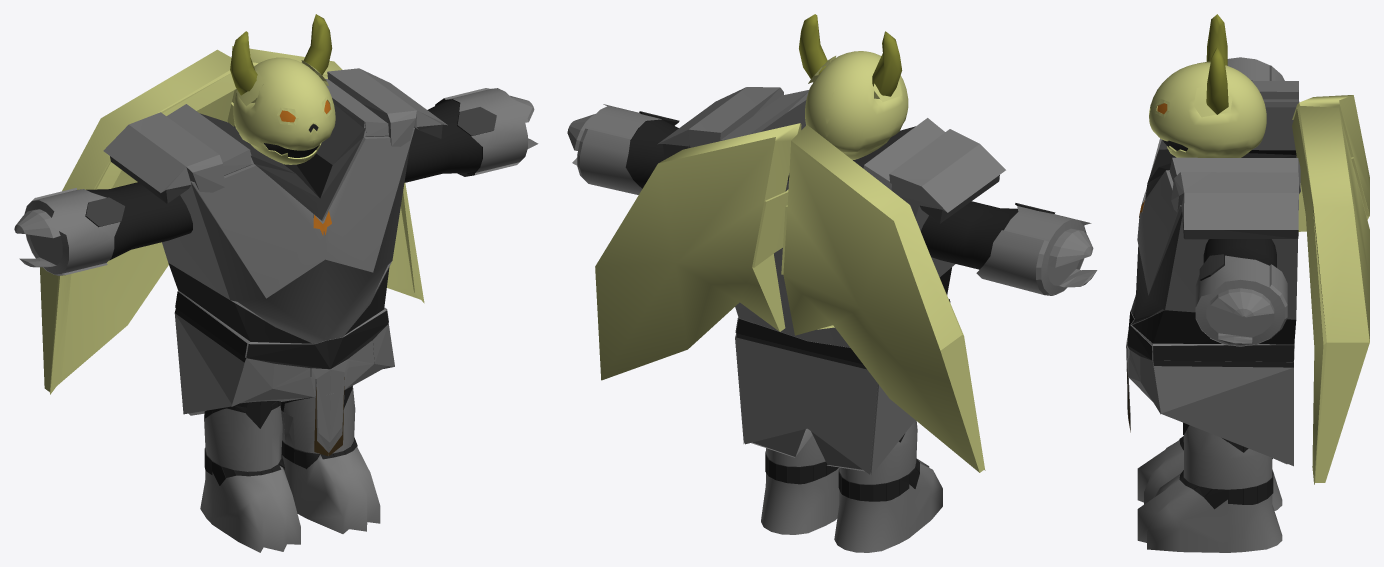
File: palidomarmol.fbx
3 views of the same model, side by side, from view 1: azimuth 30°, elevation 25°; view 2: azimuth 150°, elevation 25°; view 3: azimuth 270°, elevation 25° (orthographic).
Parts seen in each view (by area): view 1: Box001, ala002, brazo1, brazo002, cabeza, ala1, cuerno2, cuerno1; view 2: Box001, ala002, ala1, brazo1, cabeza, brazo002, cuerno2, cuerno1; view 3: Box001, ala1, brazo002, cabeza, ala002, cuerno1, brazo1, cuerno2.
Part boxes in pixels (x1,y1,x2,y2): Box001: (103, 68, 447, 552); ala002: (40, 49, 236, 394); brazo1: (14, 182, 192, 275); brazo002: (404, 88, 538, 182); cabeza: (233, 57, 335, 164); ala1: (227, 46, 424, 303); cuerno2: (230, 31, 257, 95); cuerno1: (303, 14, 332, 74); Box001: (657, 87, 1005, 552); ala002: (781, 125, 985, 472); ala1: (595, 123, 801, 380); brazo1: (920, 201, 1097, 295); cabeza: (805, 51, 908, 159); brazo002: (567, 104, 690, 194); cuerno2: (872, 31, 902, 96); cuerno1: (799, 14, 827, 78); Box001: (1126, 81, 1300, 552); ala1: (1292, 105, 1369, 484); brazo002: (1195, 239, 1287, 346); cabeza: (1149, 61, 1266, 157); ala002: (1292, 95, 1369, 219); cuerno1: (1206, 48, 1228, 114); brazo1: (1227, 57, 1284, 80); cuerno2: (1206, 14, 1227, 65).
Size of the model in its own units: 3.08 by 2.82 by 1.27.
